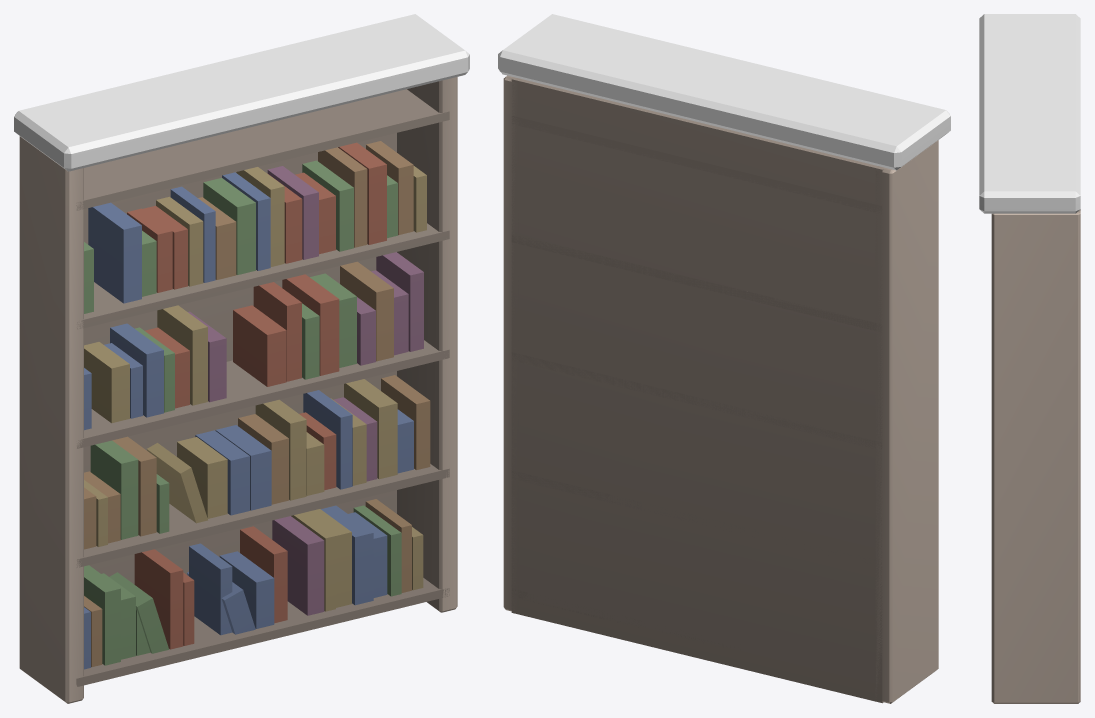
The model's file is bookshelf_gallery_0.glb.
3 renders of one model, left to right at view 1: azimuth 30°, elevation 25°; view 2: azimuth 150°, elevation 25°; view 3: azimuth 270°, elevation 25°, orthographic. The views are drawn at different scales.
Visible parts, largest first — view 1: book; view 2: book; view 3: book.
Part boxes in pixels (<box>): book: <box>14,14,469,703</box>; book: <box>498,14,950,703</box>; book: <box>979,14,1080,703</box>.
Bounding box in the file's own units: 1.74 × 2.3 × 0.41.
